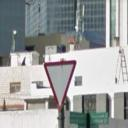preferencia: (42, 58, 80, 112)
